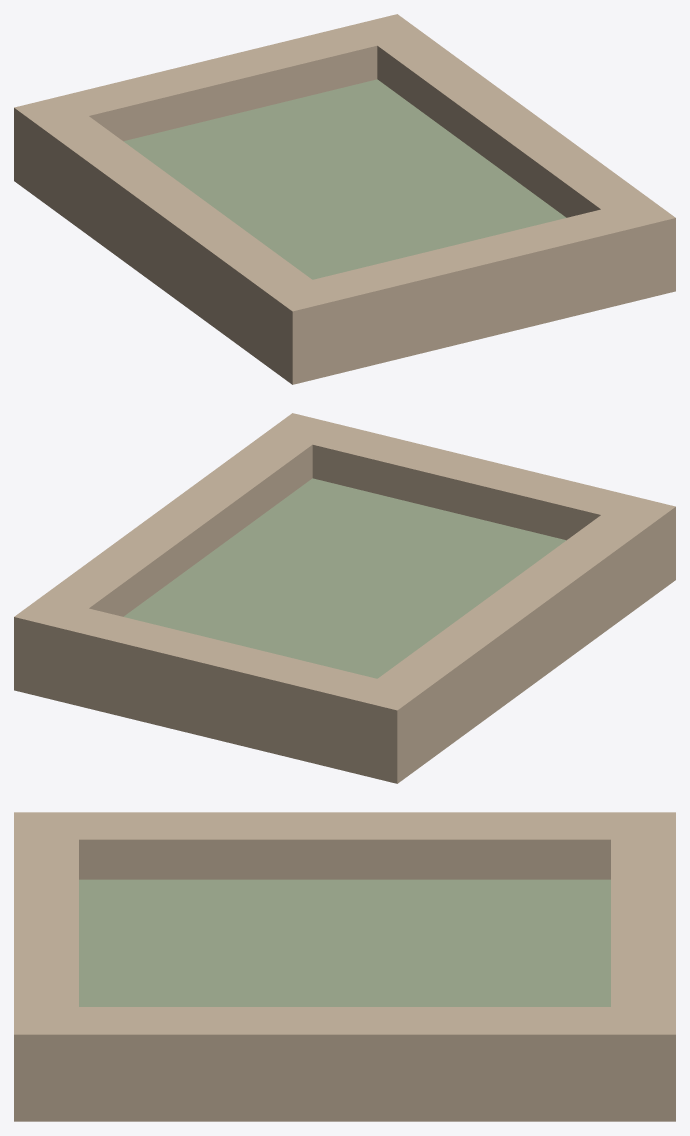
Rendered from BC_NatureFrame_D.fbx.
3 renders of one model, top to bottom at view 1: azimuth 30°, elevation 25°; view 2: azimuth 150°, elevation 25°; view 3: azimuth 270°, elevation 25°, orthographic. The views are drawn at different scales.
Visible parts, largest first — view 1: BC_NatureFrame_D; view 2: BC_NatureFrame_D; view 3: BC_NatureFrame_D.
Boxes of the visible parts, bbox=[...] form: BC_NatureFrame_D: bbox=[14, 14, 675, 384]; BC_NatureFrame_D: bbox=[14, 413, 675, 783]; BC_NatureFrame_D: bbox=[14, 812, 675, 1121].
Size of the model in its own units: 566 by 104 by 712.
